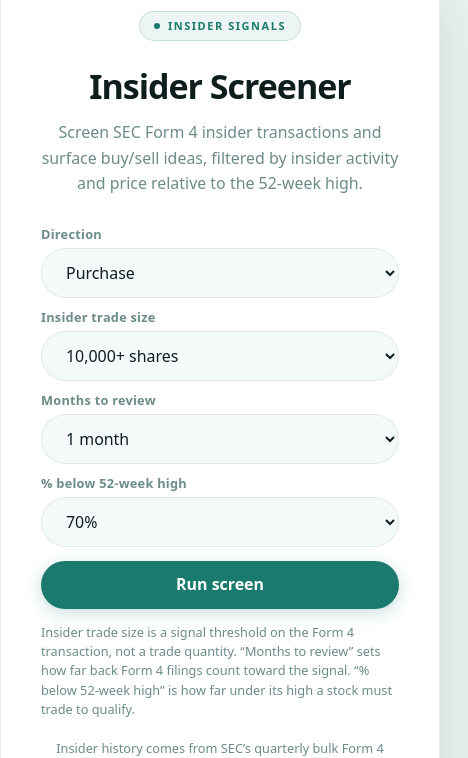
Scenario: InsiderScreener results › shows the multi-insider badge only on flagged rows
Click the button "Run screen".
click(220, 585)  # box [41, 561, 399, 609]
(page scrolled)
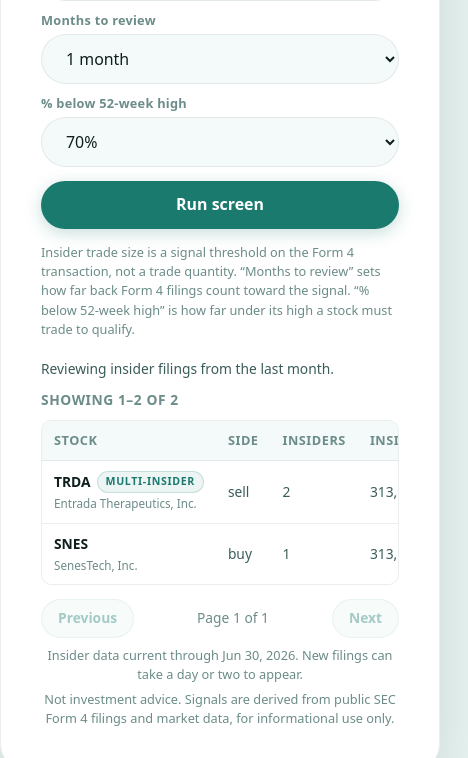
Now the text "multi-insider" is shown, box [97, 471, 204, 493]
